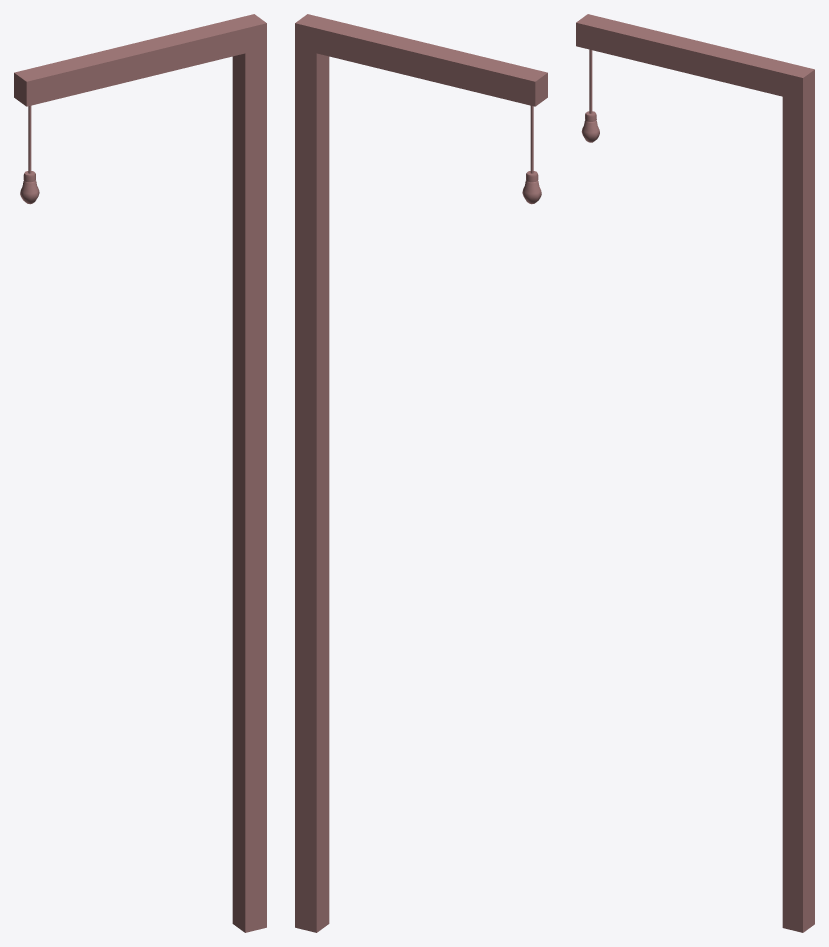
Rendered from lampadaTunel.fbx.
The picture shows the model from 3 angles, left to right: view 1: azimuth 30°, elevation 25°; view 2: azimuth 150°, elevation 25°; view 3: azimuth 330°, elevation 25°; orthographic projection. The views are drawn at different scales.
Parts seen in each view (by area): view 1: pCube3; view 2: pCube3; view 3: pCube3.
Part boxes in pixels (x1,y1,x2,y2): pCube3: (14,14,266,932); pCube3: (295,14,547,932); pCube3: (576,14,814,932).
Bounding box in the file's own units: 47.66 × 171 × 4.31.
